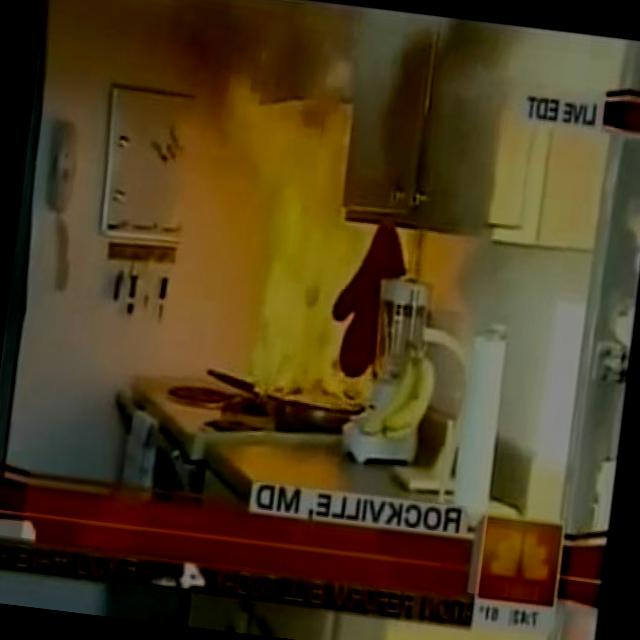fire: (222, 72, 423, 455)
